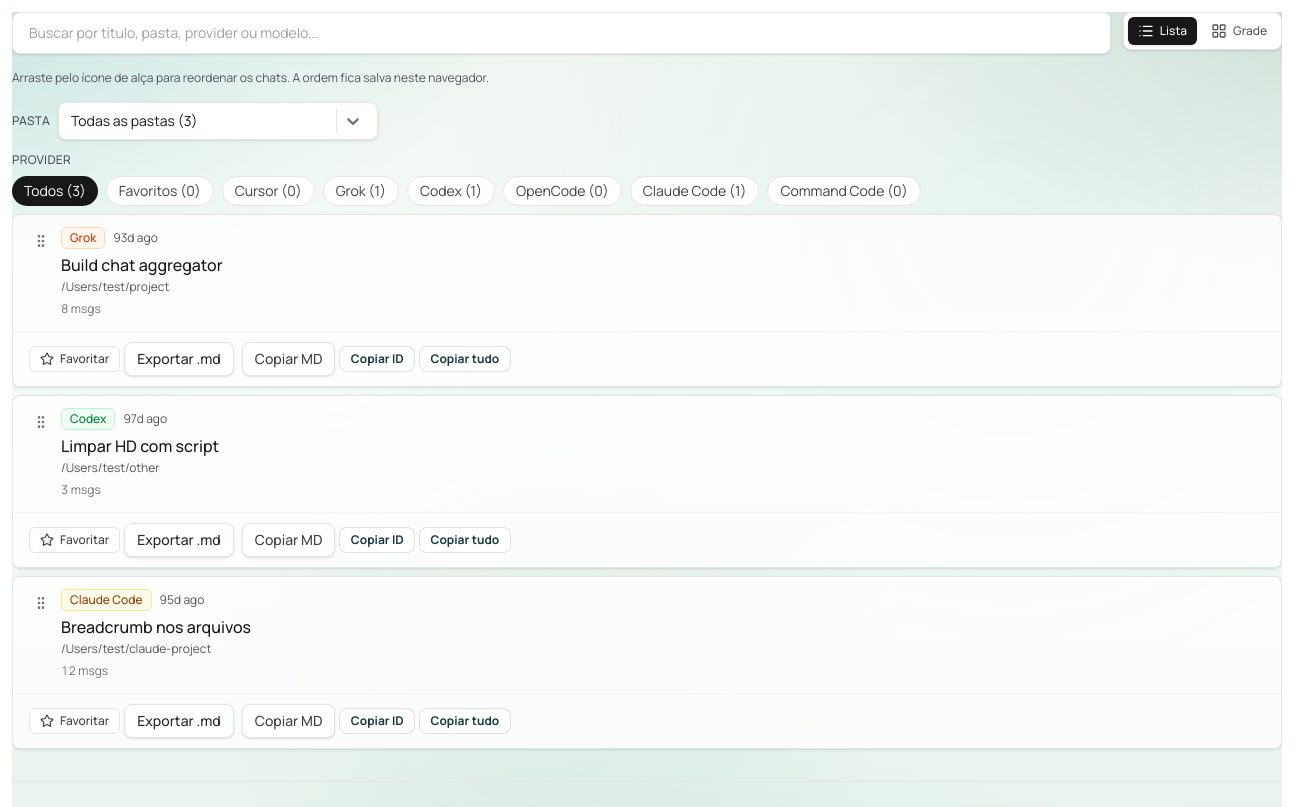
ChatList › filters chats by folder via backend
Press the mouse on the dropdown labelled "Pasta" at (72, 121), box [71,111,74,131]
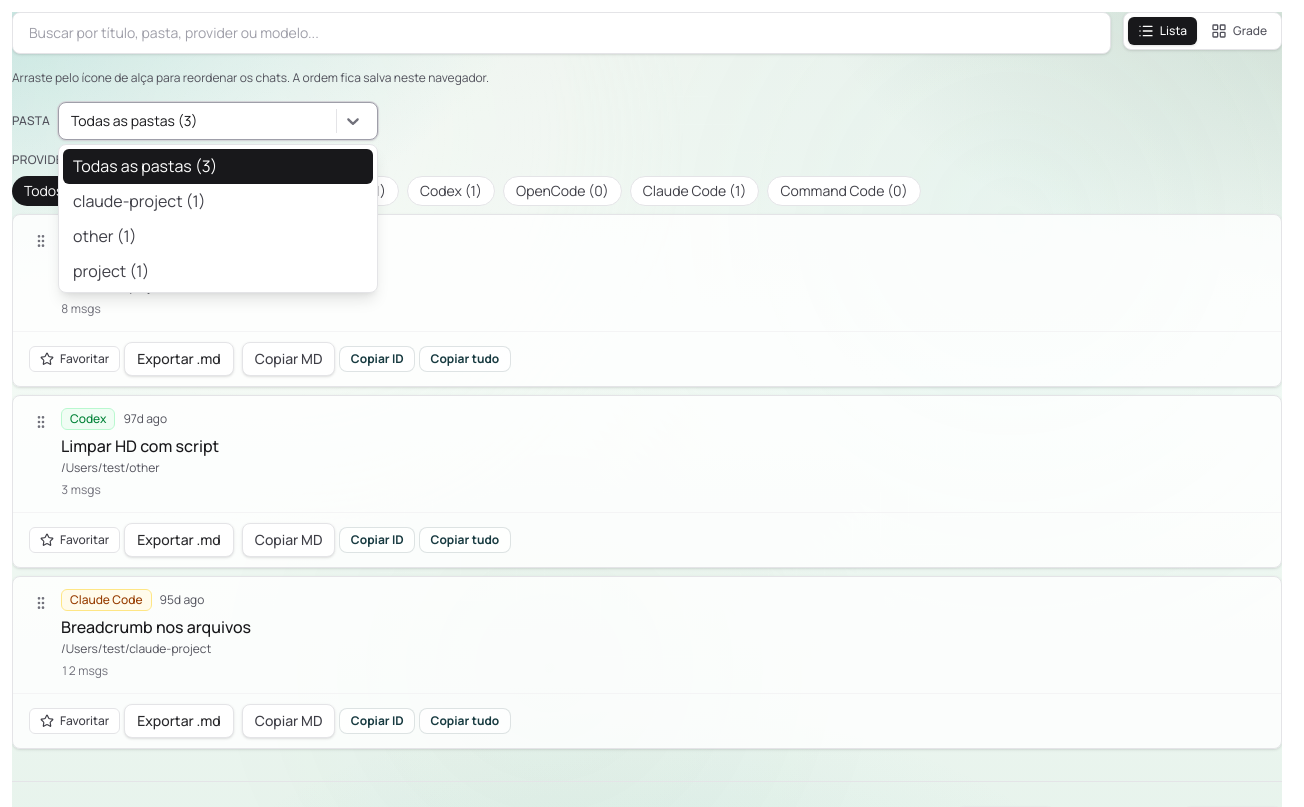
Click the option "other (1)" at (105, 236), box [73,225,137,247]
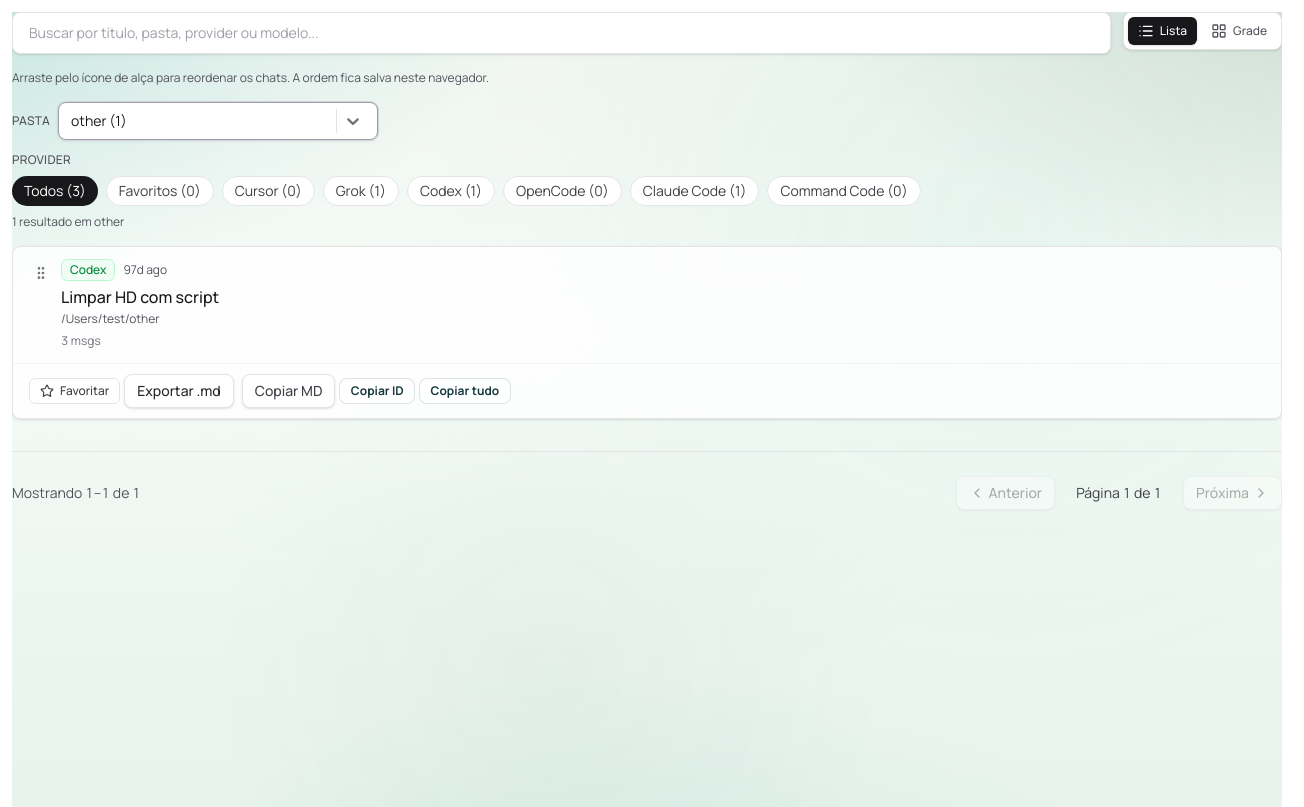
Expected: the text "Limpar HD com script" is shown, [61,285,219,309]
Now the link "Build chat aggregator" is gone
Now the text "1 resultado em other" is shown, box [12,213,124,230]
